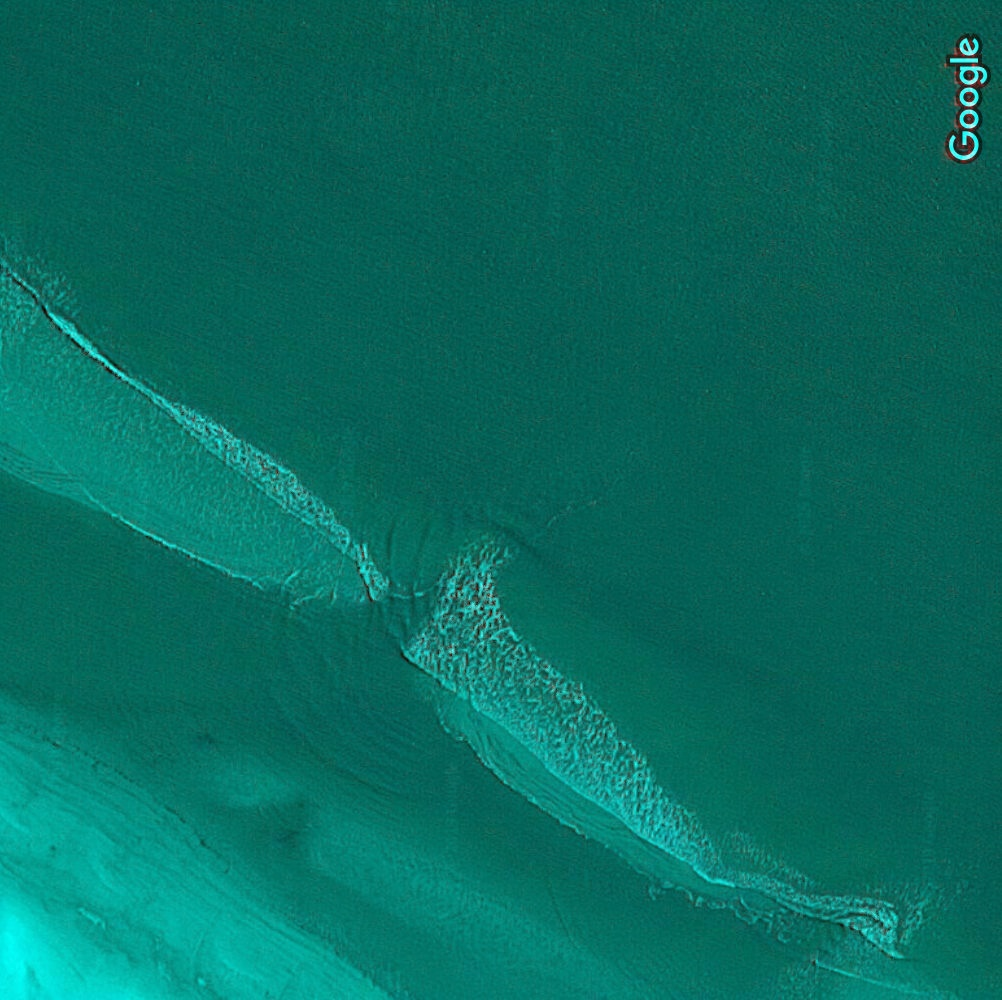rip_current: (369, 546, 518, 645)
